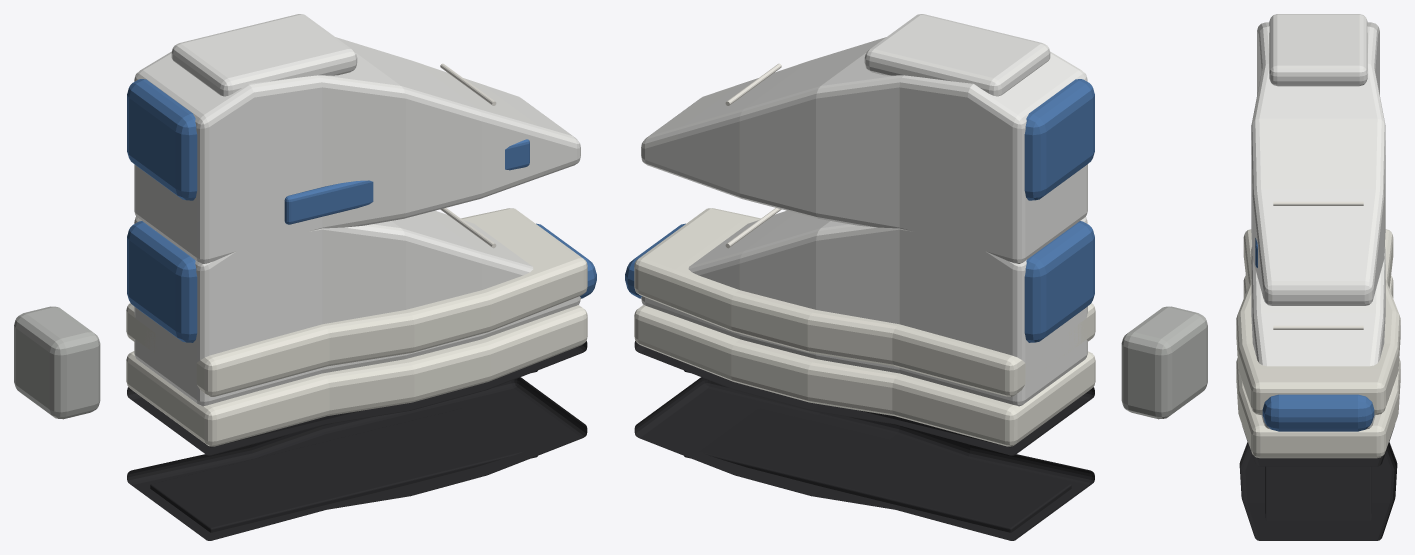
Rendered from nike-cortez-1972.glb.
3 renders of one model, left to right at view 1: azimuth 30°, elevation 25°; view 2: azimuth 150°, elevation 25°; view 3: azimuth 270°, elevation 25°, orthographic. The views are drawn at different scales.
Parts seen in each view (by area): view 1: nike-cortez-1972_UPPER_EXPLODED, nike-cortez-1972_UPPER, nike-cortez-1972_MIDSOLE_EXPLODED, nike-cortez-1972_MIDSOLE, nike-cortez-1972_OUTSOLE_EXPLODED, nike-cortez-1972_TONGUE_EXPLODED, nike-cortez-1972_HEEL_FOAM_EXPLODED, nike-cortez-1972_HEEL_COUNTER_EXPLODED, nike-cortez-1972_HEEL_COUNTER, nike-cortez-1972_OUTSOLE, nike-cortez-1972_SIDE_REINFORCEMENT_EXPLODED, nike-cortez-1972_TREAD_07_EXPLODED (+9 smaller); view 2: nike-cortez-1972_UPPER_EXPLODED, nike-cortez-1972_UPPER, nike-cortez-1972_MIDSOLE_EXPLODED, nike-cortez-1972_MIDSOLE, nike-cortez-1972_OUTSOLE_EXPLODED, nike-cortez-1972_TONGUE_EXPLODED, nike-cortez-1972_HEEL_FOAM_EXPLODED, nike-cortez-1972_HEEL_COUNTER_EXPLODED, nike-cortez-1972_HEEL_COUNTER, nike-cortez-1972_OUTSOLE, nike-cortez-1972_TREAD_01_EXPLODED, nike-cortez-1972_TREAD_05_EXPLODED (+8 smaller); view 3: nike-cortez-1972_UPPER_EXPLODED, nike-cortez-1972_UPPER, nike-cortez-1972_MIDSOLE_EXPLODED, nike-cortez-1972_TONGUE_EXPLODED, nike-cortez-1972_MIDSOLE, nike-cortez-1972_OUTSOLE_EXPLODED, nike-cortez-1972_TOE_OVERLAY, nike-cortez-1972_TREAD_07_EXPLODED, nike-cortez-1972_TREAD_06_EXPLODED, nike-cortez-1972_TREAD_08_EXPLODED, nike-cortez-1972_OUTSOLE, nike-cortez-1972_TREAD_09_EXPLODED (+3 smaller).
Boxes of the visible parts, <box> form: nike-cortez-1972_UPPER_EXPLODED: <box>134,37,580,263</box>; nike-cortez-1972_UPPER: <box>134,210,580,406</box>; nike-cortez-1972_MIDSOLE_EXPLODED: <box>126,208,587,396</box>; nike-cortez-1972_MIDSOLE: <box>126,305,587,446</box>; nike-cortez-1972_OUTSOLE_EXPLODED: <box>127,377,587,540</box>; nike-cortez-1972_TONGUE_EXPLODED: <box>171,14,357,96</box>; nike-cortez-1972_HEEL_FOAM_EXPLODED: <box>14,306,100,419</box>; nike-cortez-1972_HEEL_COUNTER_EXPLODED: <box>127,79,197,200</box>; nike-cortez-1972_HEEL_COUNTER: <box>127,221,197,342</box>; nike-cortez-1972_OUTSOLE: <box>127,341,587,455</box>; nike-cortez-1972_SIDE_REINFORCEMENT_EXPLODED: <box>284,139,529,224</box>; nike-cortez-1972_TREAD_07_EXPLODED: <box>369,420,474,478</box>; nike-cortez-1972_UPPER_EXPLODED: <box>641,37,1087,263</box>; nike-cortez-1972_UPPER: <box>641,210,1087,406</box>; nike-cortez-1972_MIDSOLE_EXPLODED: <box>634,208,1095,396</box>; nike-cortez-1972_MIDSOLE: <box>634,305,1095,446</box>; nike-cortez-1972_OUTSOLE_EXPLODED: <box>634,377,1094,540</box>; nike-cortez-1972_TONGUE_EXPLODED: <box>864,14,1050,96</box>; nike-cortez-1972_HEEL_FOAM_EXPLODED: <box>1121,306,1207,419</box>; nike-cortez-1972_HEEL_COUNTER_EXPLODED: <box>1024,79,1094,200</box>; nike-cortez-1972_HEEL_COUNTER: <box>1024,221,1094,342</box>; nike-cortez-1972_OUTSOLE: <box>634,341,1094,455</box>; nike-cortez-1972_TREAD_01_EXPLODED: <box>932,466,1038,521</box>; nike-cortez-1972_TREAD_05_EXPLODED: <box>808,436,914,493</box>; nike-cortez-1972_UPPER_EXPLODED: <box>1251,22,1385,305</box>; nike-cortez-1972_UPPER: <box>1251,247,1385,429</box>; nike-cortez-1972_MIDSOLE_EXPLODED: <box>1236,229,1400,414</box>; nike-cortez-1972_TONGUE_EXPLODED: <box>1269,14,1367,86</box>; nike-cortez-1972_MIDSOLE: <box>1236,275,1400,458</box>; nike-cortez-1972_OUTSOLE_EXPLODED: <box>1239,442,1397,540</box>; nike-cortez-1972_TOE_OVERLAY: <box>1262,394,1374,431</box>; nike-cortez-1972_TREAD_07_EXPLODED: <box>1265,480,1371,500</box>; nike-cortez-1972_TREAD_06_EXPLODED: <box>1265,467,1371,487</box>; nike-cortez-1972_TREAD_08_EXPLODED: <box>1265,494,1371,513</box>; nike-cortez-1972_OUTSOLE: <box>1242,426,1394,466</box>; nike-cortez-1972_TREAD_09_EXPLODED: <box>1265,507,1371,520</box>.
Bounding box in the file's own units: 0.3966 × 0.315 × 0.12.
